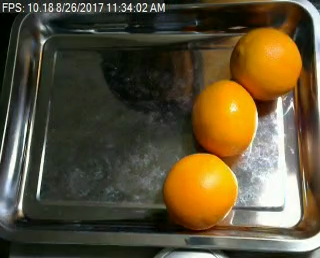Orange: (163, 151, 239, 228), (229, 26, 302, 101), (192, 78, 258, 156)
